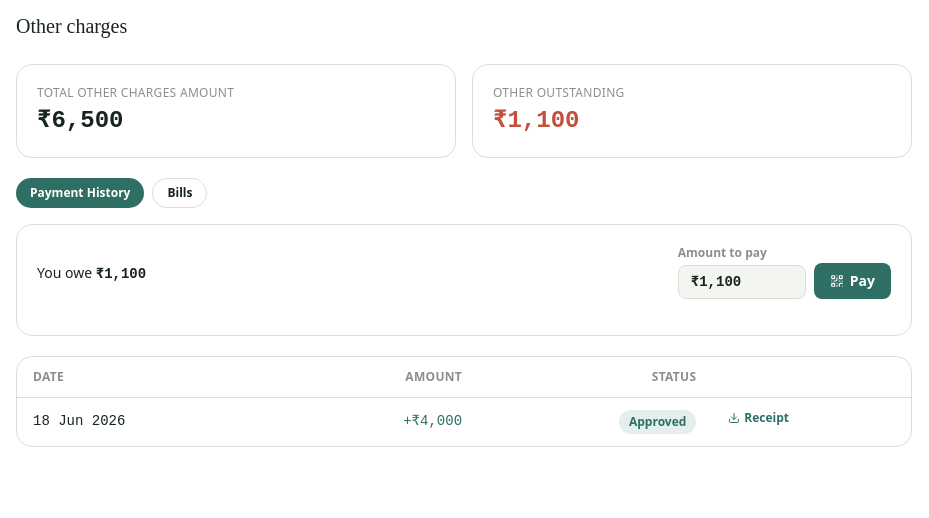
Test: OtherChargesBookPage › switches to the Bills tab: shows only OTHER_CHARGE rows, each with its own settlement status and fee type
Click the tab "Bills".
click(180, 193)  # box [152,178,207,208]
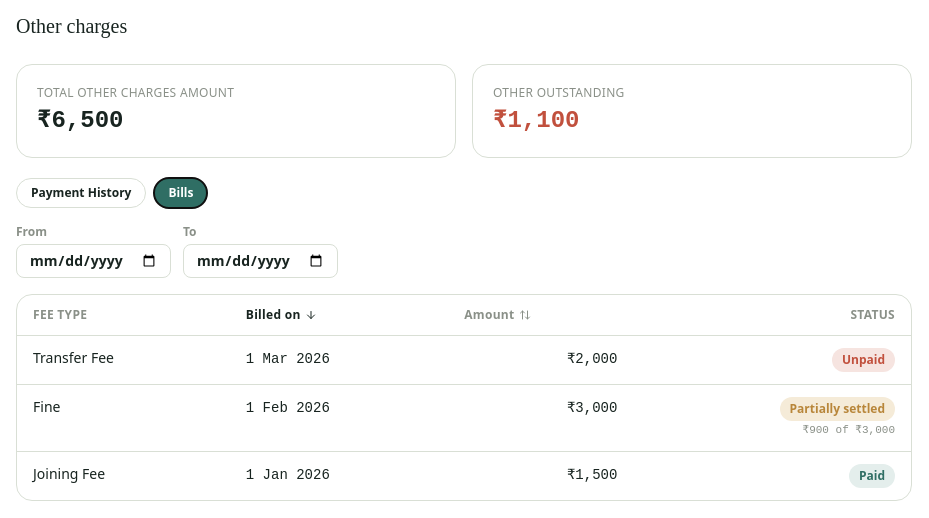
Result: the text "Joining Fee" is shown at [33,464,105,483]
Result: the text "Transfer Fee" is shown at [33,348,114,367]
Result: the text "Fine" is shown at [33,397,60,416]
